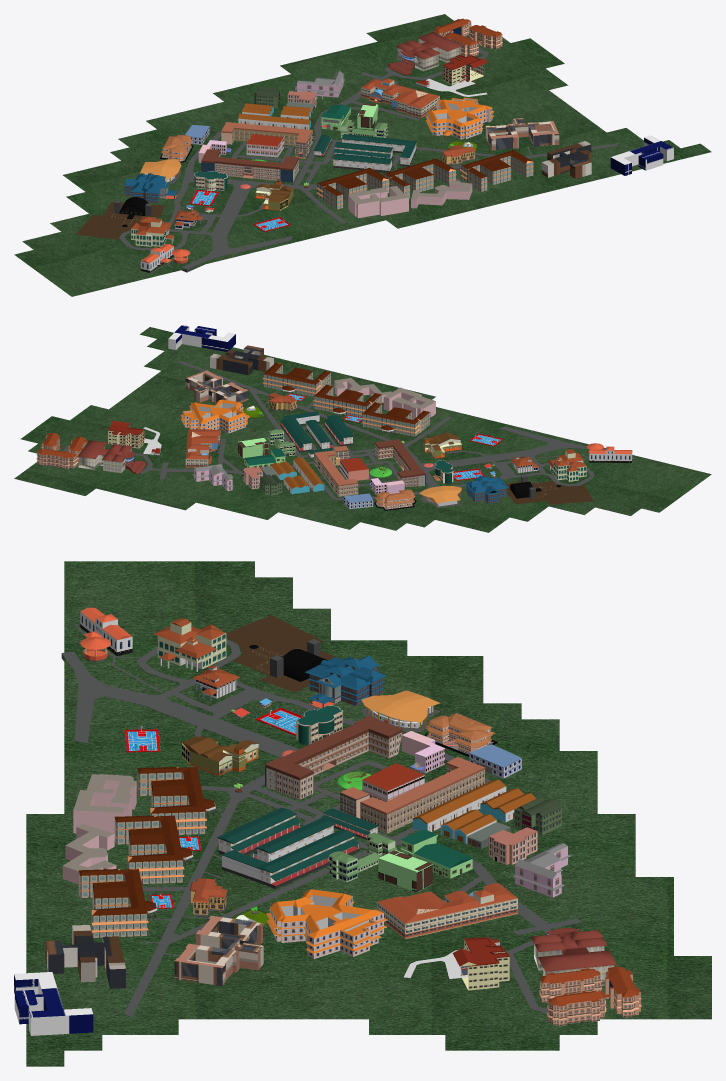
File: nitc.glb
The picture shows the model from 3 angles, top to bottom: view 1: azimuth 30°, elevation 25°; view 2: azimuth 150°, elevation 25°; view 3: azimuth 270°, elevation 25°; orthographic projection. The views are drawn at different scales.
Visible parts, largest first — view 1: Terrain, Plane, map.osm_buildings.009, Plane.001, Cube.001, map.osm_buildings.003, map.osm_buildings.002, map.osm_buildings.107, map.osm_buildings.001, map.osm_buildings.008, map.osm_buildings.113, map.osm_buildings.020 (+25 smaller); view 2: Terrain, Plane, map.osm_buildings.009, Cube.001, map.osm_buildings.001, map.osm_buildings.003, map.osm_buildings.107, map.osm_buildings.008, map.osm_buildings.011, map.osm_buildings.113, Plane.001, map.osm_buildings.014 (+28 smaller); view 3: Terrain, Plane, map.osm_buildings.009, Plane.001, map.osm_buildings.002, map.osm_buildings.107, map.osm_buildings.113, map.osm_buildings.003, map.osm_buildings.008, map.osm_buildings.001, map.osm_buildings.006, map.osm_buildings.014 (+34 smaller).
Boxes of the visible parts, x1,y1,x2,y2 form: Terrain: (14,14,711,296); Plane: (119,48,618,272); map.osm_buildings.009: (425,97,494,139); Plane.001: (201,149,298,182); Cube.001: (388,32,462,75); map.osm_buildings.003: (460,150,534,191); map.osm_buildings.002: (361,78,439,117); map.osm_buildings.107: (485,118,559,150); map.osm_buildings.001: (316,167,390,209); map.osm_buildings.008: (384,158,456,198); map.osm_buildings.113: (221,122,312,158); map.osm_buildings.020: (348,186,408,218); Terrain: (14,327,711,532); Plane: (63,361,606,500); map.osm_buildings.009: (180,399,249,433); Cube.001: (77,440,146,473); map.osm_buildings.001: (361,402,430,436); map.osm_buildings.003: (262,362,331,396); map.osm_buildings.107: (185,370,248,402); map.osm_buildings.008: (313,384,381,417); map.osm_buildings.011: (210,345,273,375); map.osm_buildings.113: (314,446,358,496); Plane.001: (375,439,425,487); map.osm_buildings.014: (168,325,235,351); Terrain: (26,561,711,1066); Plane: (61,639,608,1017); map.osm_buildings.009: (266,889,387,958); Plane.001: (265,716,402,799); map.osm_buildings.002: (377,883,517,939); map.osm_buildings.107: (174,915,263,986); map.osm_buildings.113: (340,756,485,833); map.osm_buildings.003: (78,869,157,937); map.osm_buildings.008: (114,815,193,883); map.osm_buildings.001: (137,767,215,834); map.osm_buildings.006: (222,829,359,888); map.osm_buildings.014: (14,972,93,1035).
Size of what is drawn, in the model's own units: 970 by 43.09 by 567.
215 materials, 75 textured.
